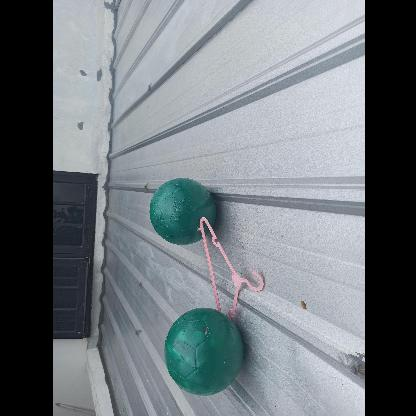green_ball: (160, 308, 247, 394), (147, 177, 213, 243)
